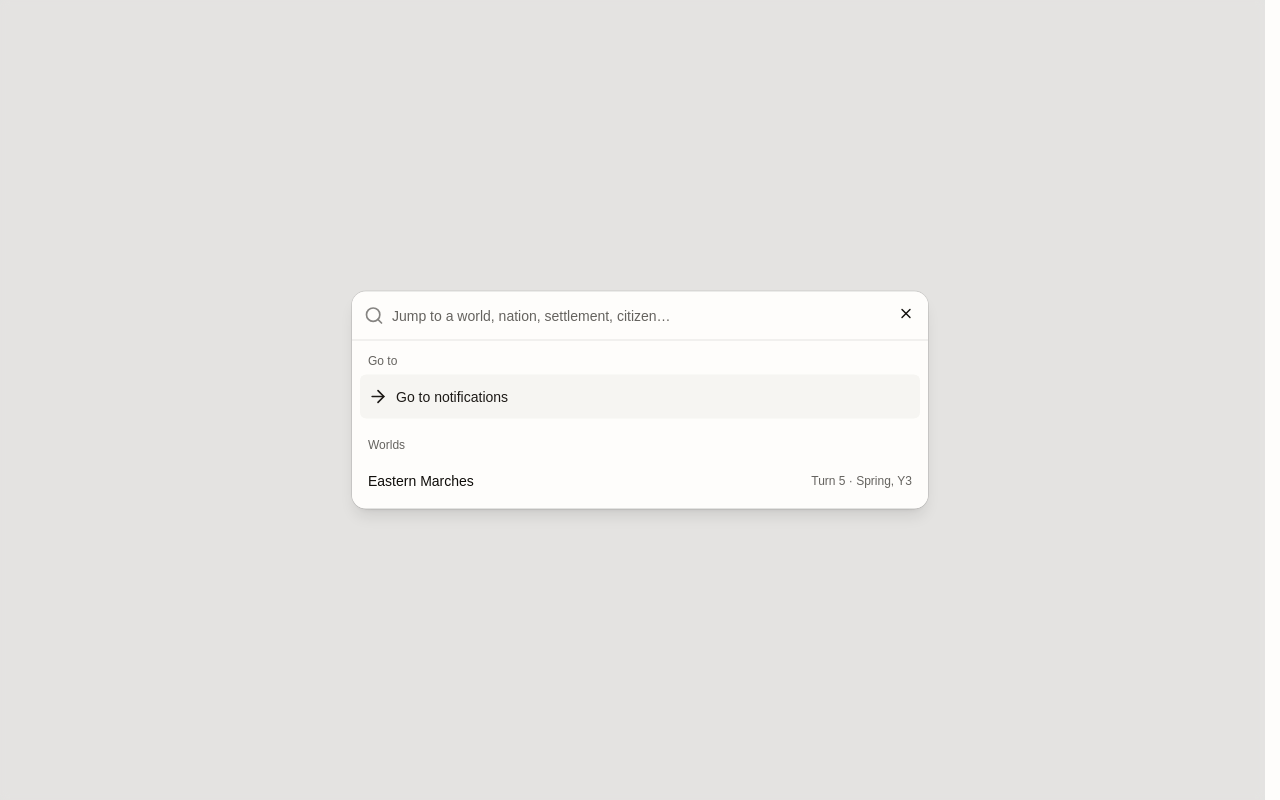
Scenario: CommandPalette › shows an empty state when nothing matches
Check: the text "Eastern Marches" is shown, box [368,472,474,488]
Type "no-such-entity-xyz" into the dropdown with placeholder "Jump to a world, nation, settlement, citizen…" at x=654, y=316, box [392,292,916,340]
Wait 200 ms
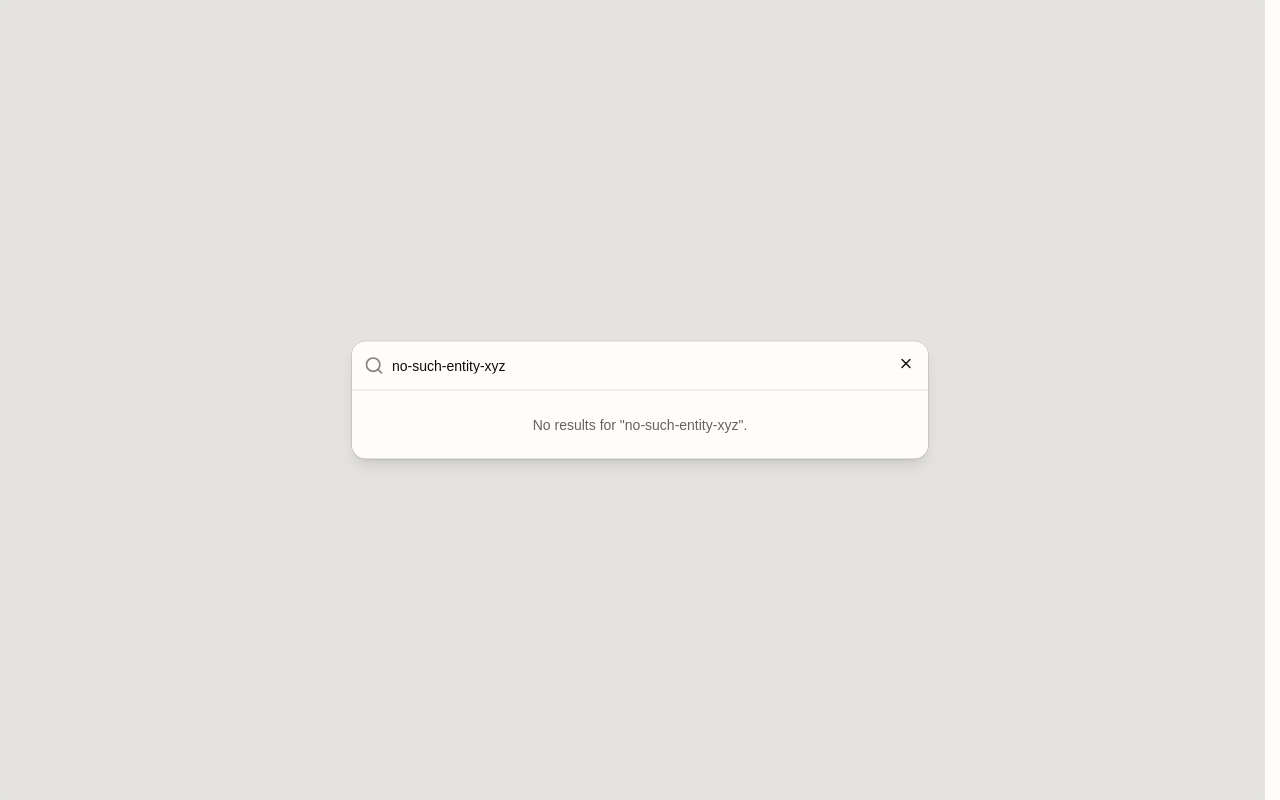
Check: the text "No results for \"no-such-entity-xyz\"." is shown, box [533,416,747,432]
